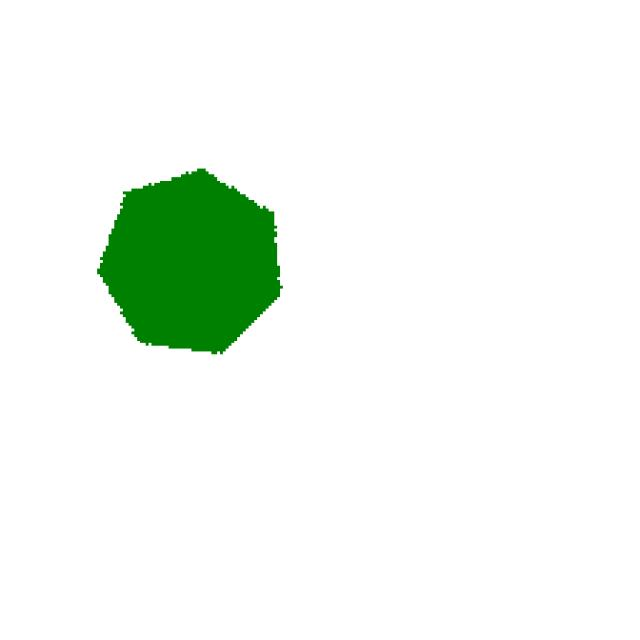Heptagon: (88, 136, 333, 371)
